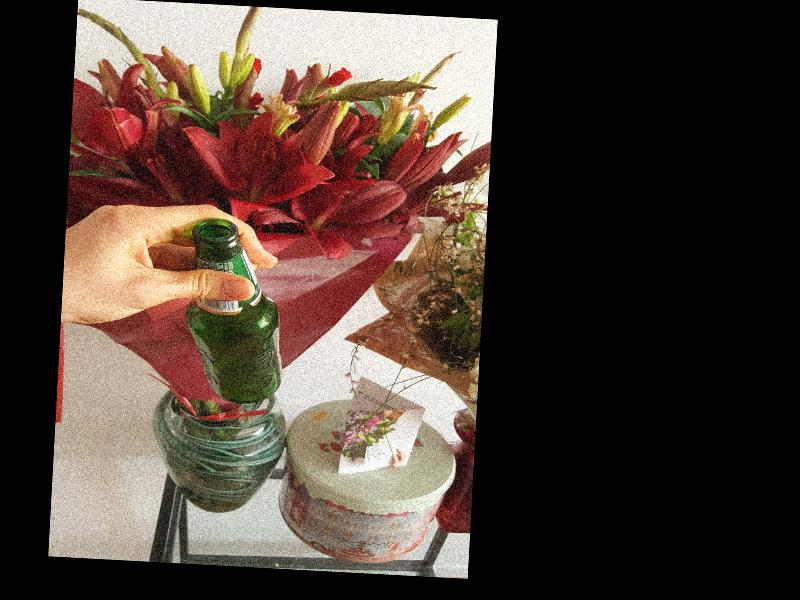Beer: (181, 218, 290, 404)
